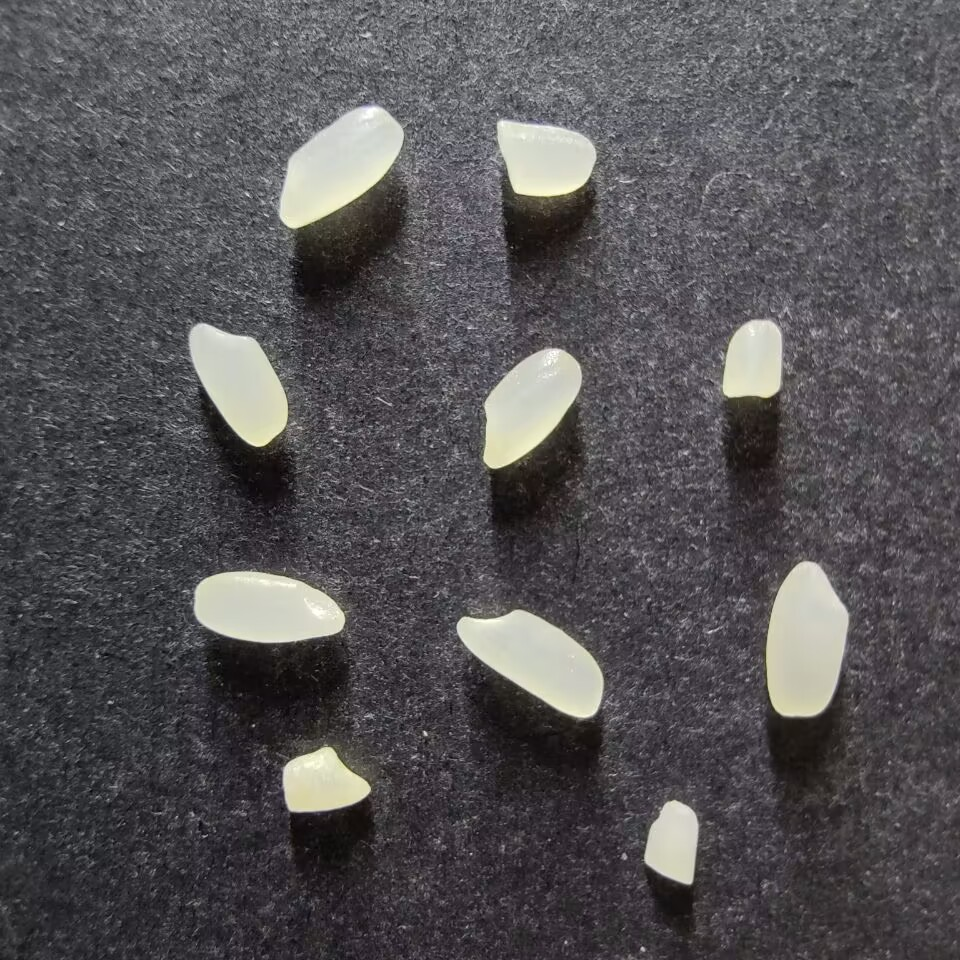broken: (493, 118, 597, 197), (281, 746, 373, 814), (720, 318, 783, 399), (643, 799, 699, 885)
rice: (455, 608, 604, 718), (277, 106, 403, 229), (765, 561, 848, 717), (187, 322, 288, 447), (481, 348, 582, 469), (192, 571, 345, 645)
